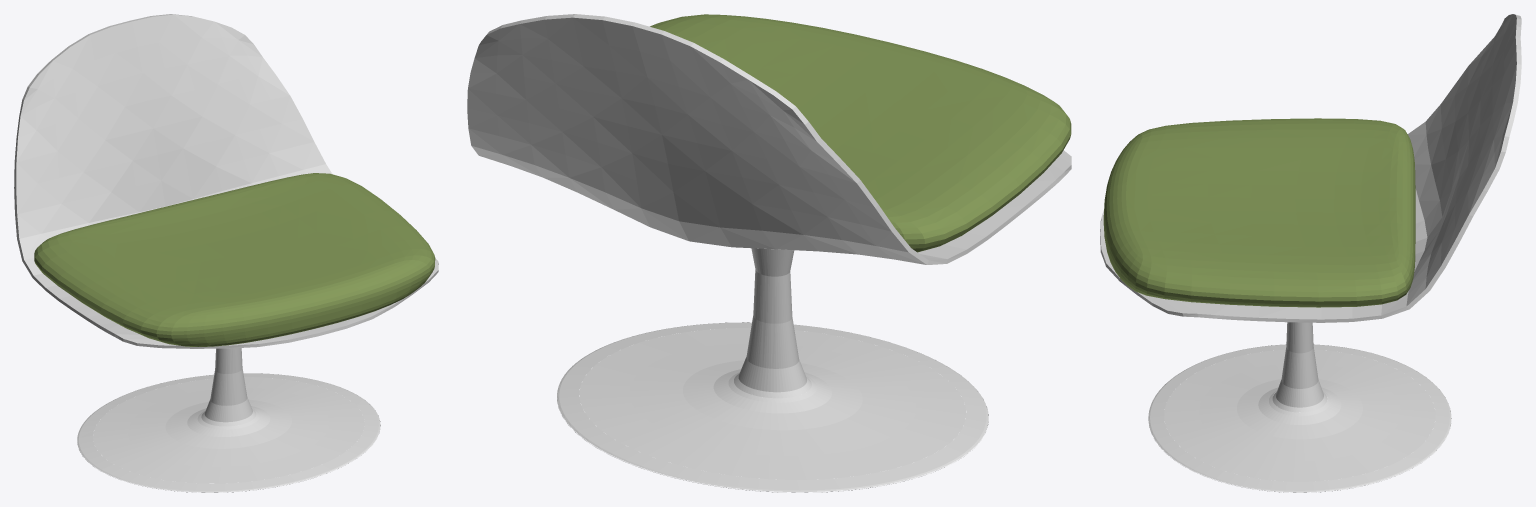
File: sh-bs0-silla-blanca.glb
3 views of the same model, side by side, from view 1: azimuth 30°, elevation 25°; view 2: azimuth 150°, elevation 25°; view 3: azimuth 270°, elevation 25° (orthographic). The views are drawn at different scales.
Visible parts, largest first — view 1: Plane.001, Cube; view 2: Plane.001, Cube; view 3: Plane.001, Cube.
Part boxes in pixels (x1,y1,x2,y2): Plane.001: (14,14,438,492); Cube: (34,173,435,346); Plane.001: (467,14,1071,492); Cube: (650,14,1071,252); Plane.001: (1100,14,1521,492); Cube: (1103,118,1415,307).
Size of the model in its own units: 1 by 1 by 1.
